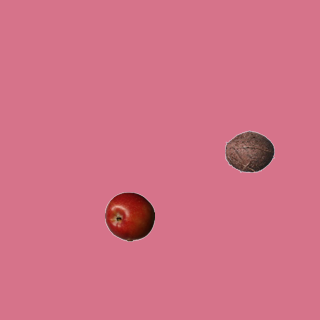Apple Braeburn: (104, 191, 154, 241)
Cocos: (224, 126, 274, 176)
